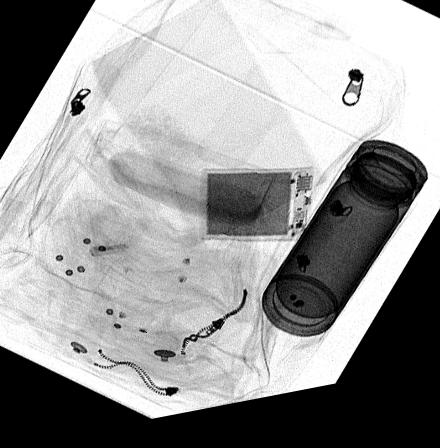Powerbank: (198, 175, 314, 251)
